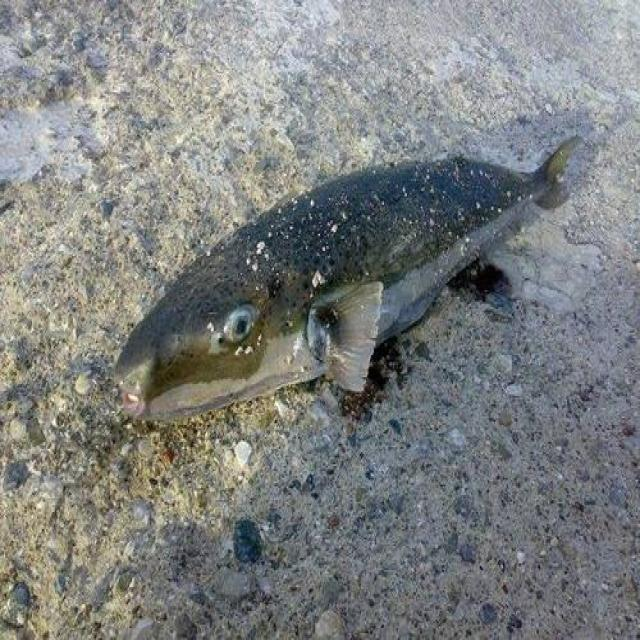Balik: (116, 139, 577, 419)
